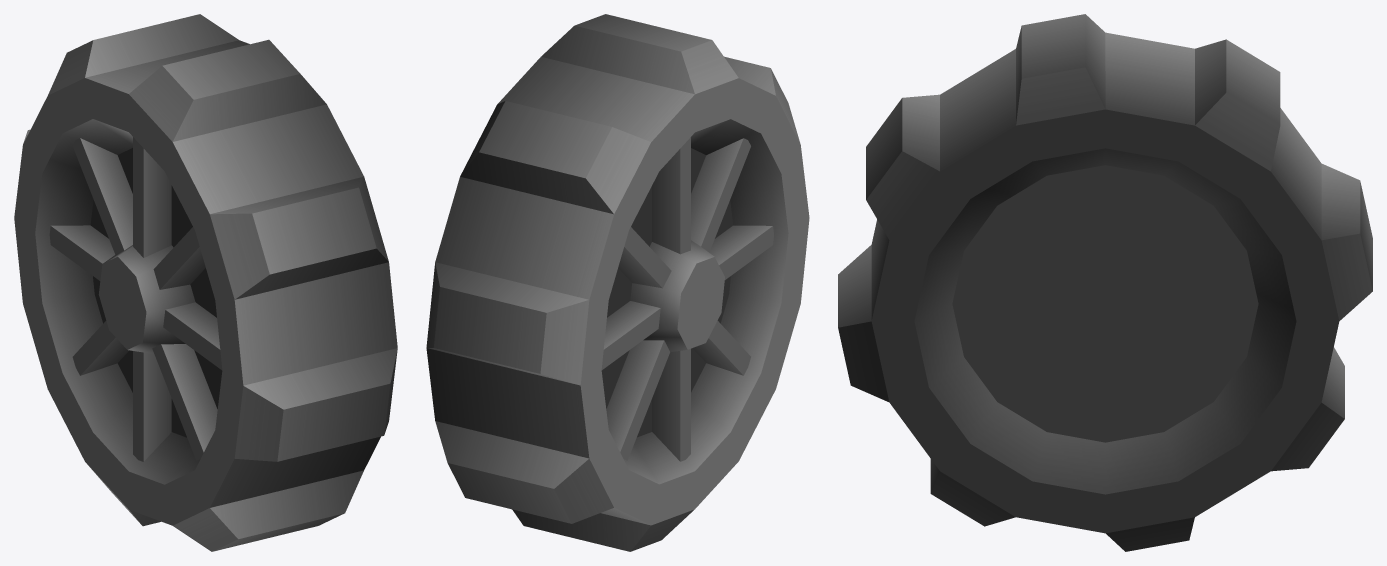
The model's file is Wheel_001_R.fbx.
3 views of the same model, side by side, from view 1: azimuth 30°, elevation 25°; view 2: azimuth 150°, elevation 25°; view 3: azimuth 270°, elevation 25° (orthographic). The views are drawn at different scales.
Parts seen in each view (by area): view 1: Wheel_001_R; view 2: Wheel_001_R; view 3: Wheel_001_R.
Boxes of the visible parts, left/top/right/bottom form: Wheel_001_R: left=14, top=14, right=397, bottom=551; Wheel_001_R: left=426, top=14, right=809, bottom=551; Wheel_001_R: left=838, top=14, right=1372, bottom=551.
Size of the model in its own units: 74.21 by 210 by 210.
